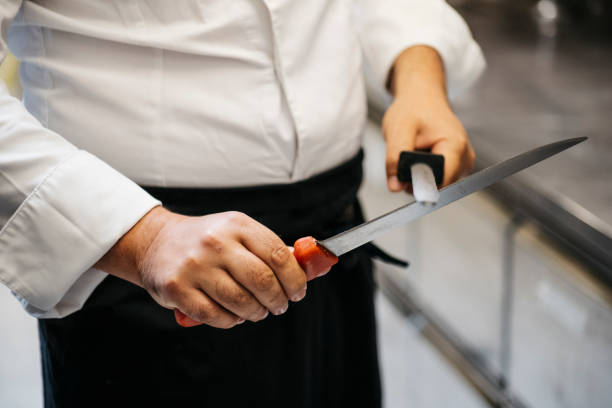knife: (173, 137, 590, 328)
